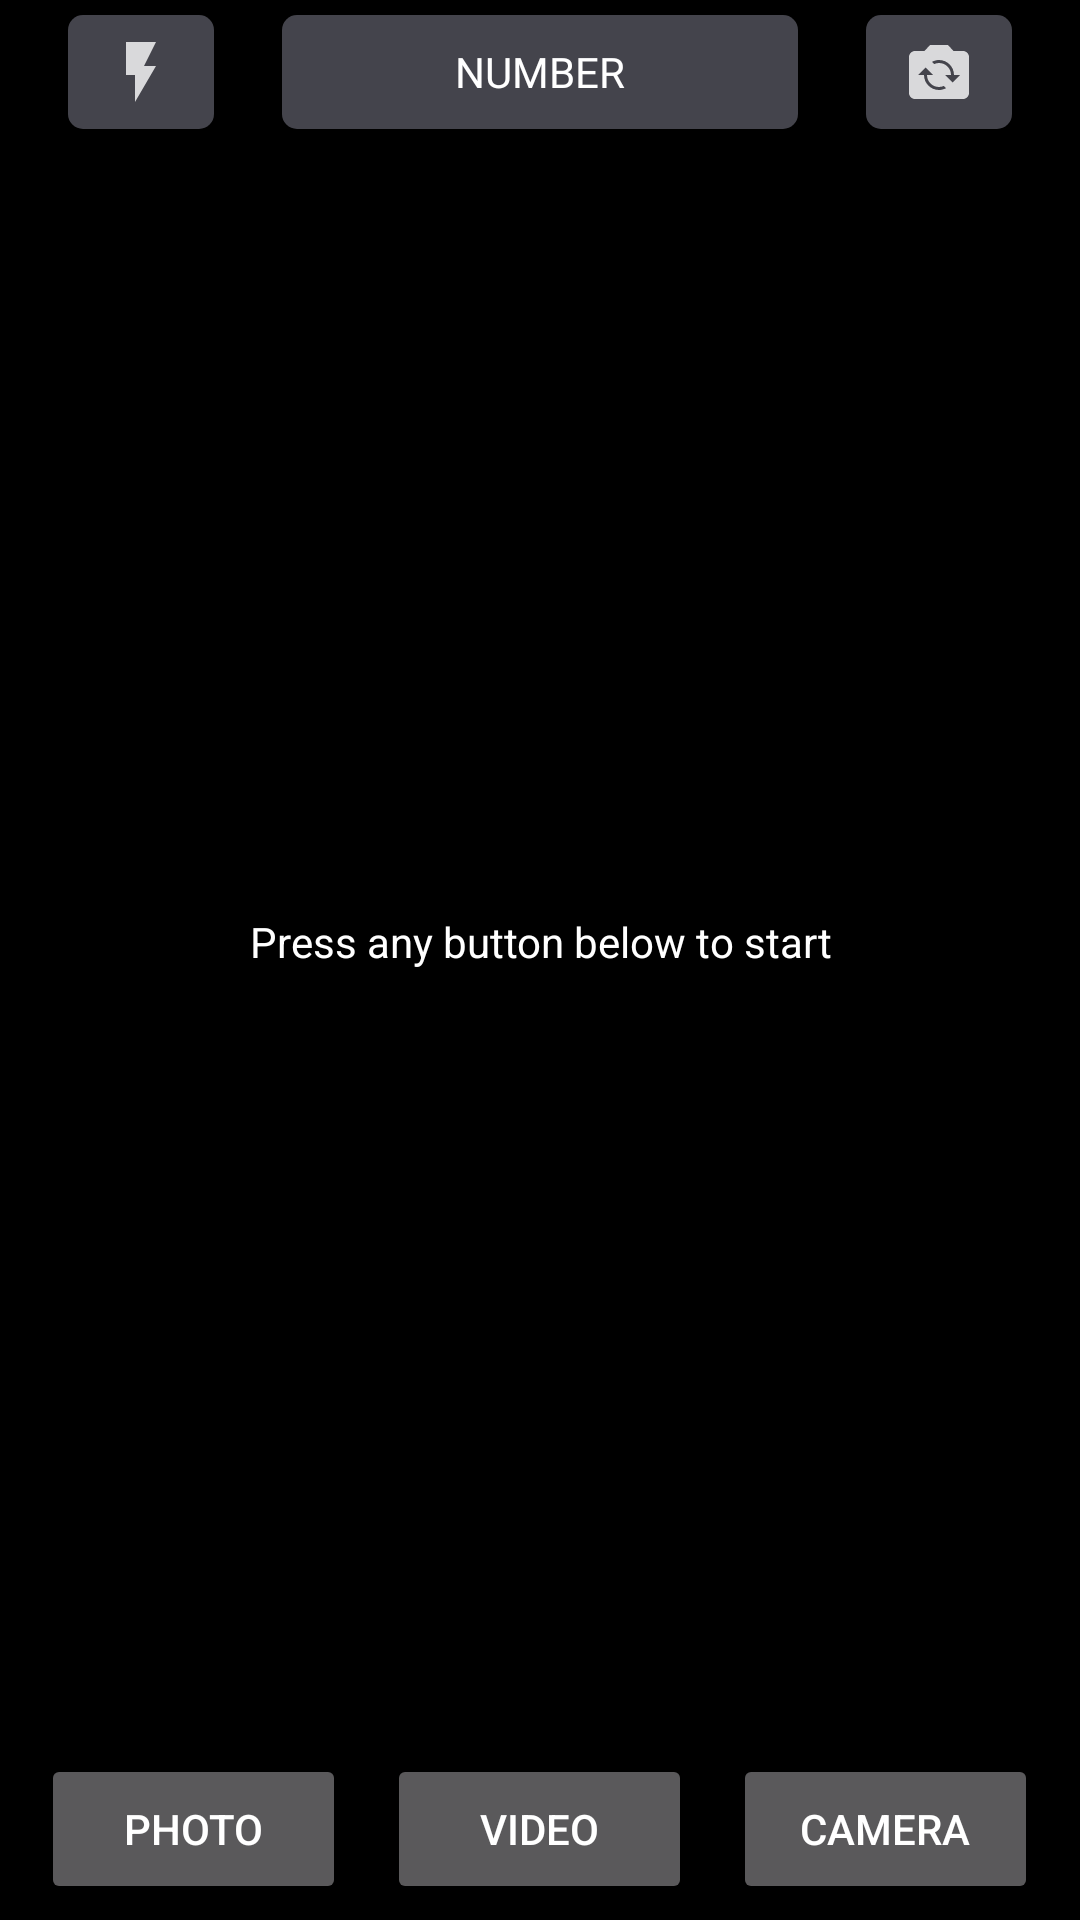

Icons on this 1080*1920 Android screen, each with its box as (x1, y1, x2, y2):
flash: (68, 15, 214, 129)
flip: (866, 15, 1012, 129)
